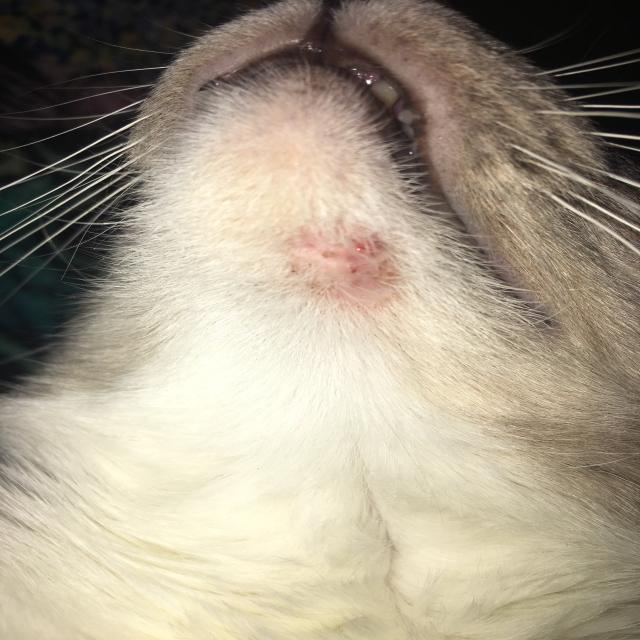da khoe manh: (33, 419, 340, 605)
hac lao: (272, 198, 414, 351)
